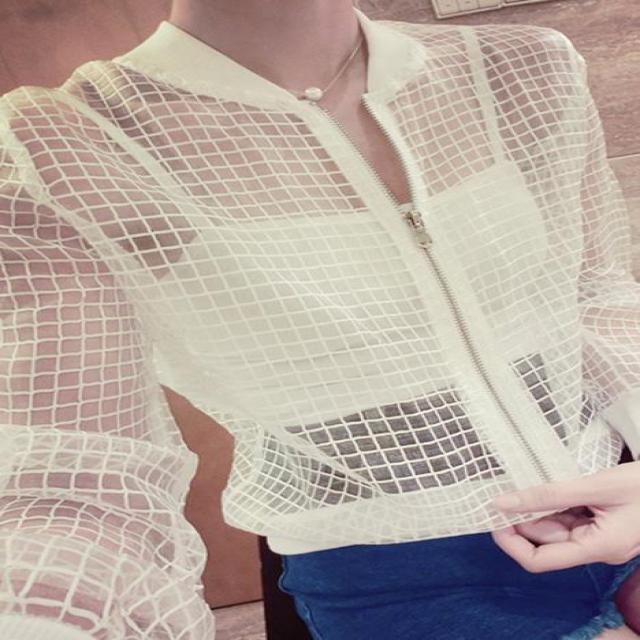long sleeve top: (3, 11, 637, 638)
shorts: (278, 433, 637, 636)
